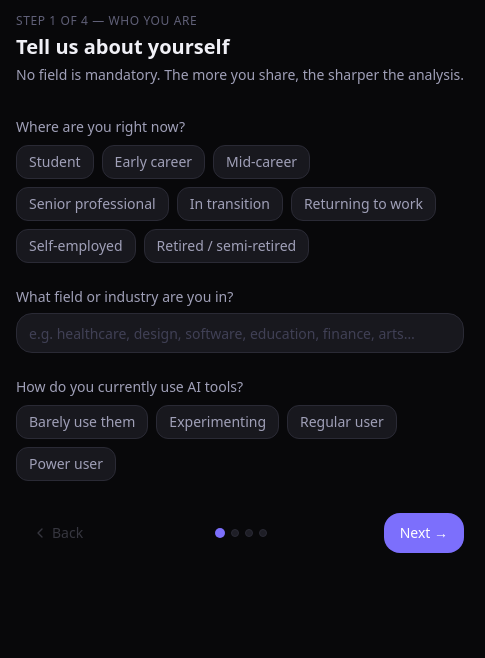
Test: QuestionnaireScreen › step 3 renders constraints tags
The image size is (485, 658).
Click the button "Next →" at (424, 533), box [384,513,464,553]
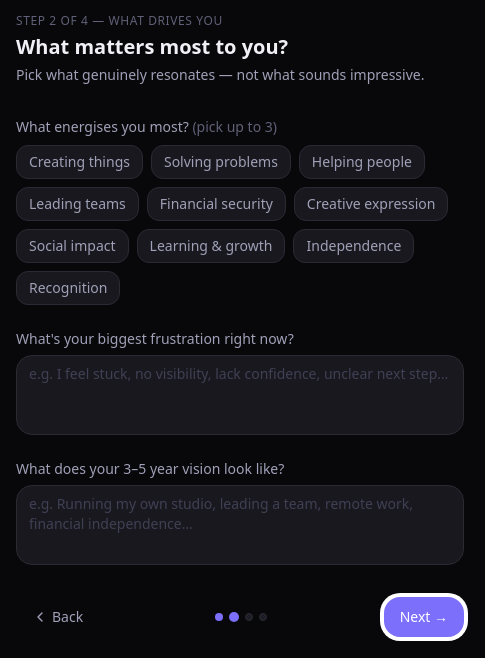
Click the button "Next →" at (424, 617), box [384,597,464,637]
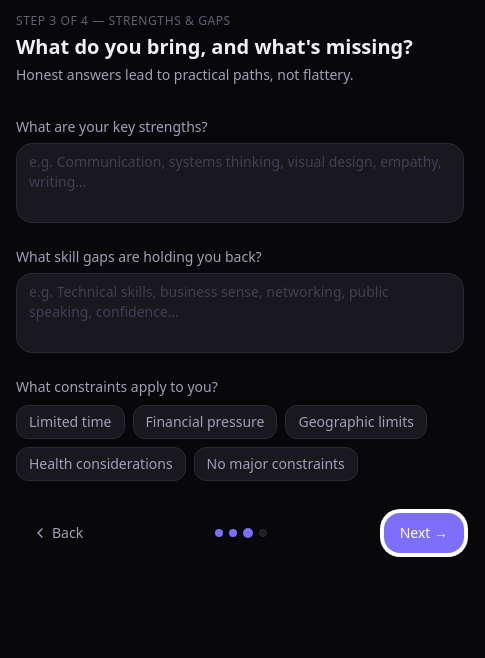
Result: the button "Limited time" is shown at [16,405,124,439]
